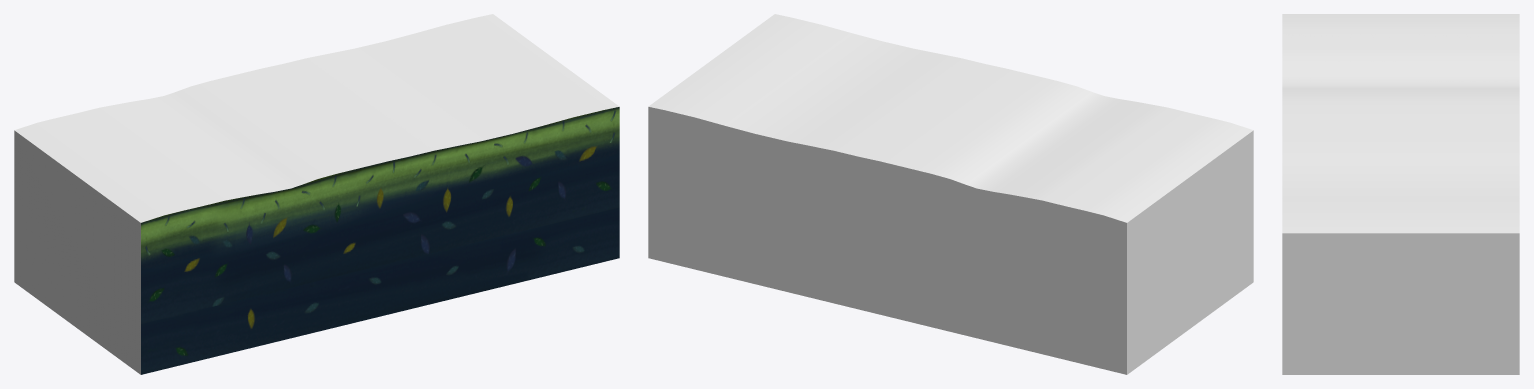
Rendered from Level_01_Terra1.fbx.
The picture shows the model from 3 angles, left to right: view 1: azimuth 30°, elevation 25°; view 2: azimuth 150°, elevation 25°; view 3: azimuth 270°, elevation 25°; orthographic projection. The views are drawn at different scales.
Parts seen in each view (by area): view 1: Level_01_Terra1; view 2: Level_01_Terra1; view 3: Level_01_Terra1.
Boxes of the visible parts, <box> form: Level_01_Terra1: <box>14,14,619,374</box>; Level_01_Terra1: <box>648,14,1253,374</box>; Level_01_Terra1: <box>1282,14,1519,374</box>.
Size of the model in its own units: 20 by 6.14 by 9.16.
